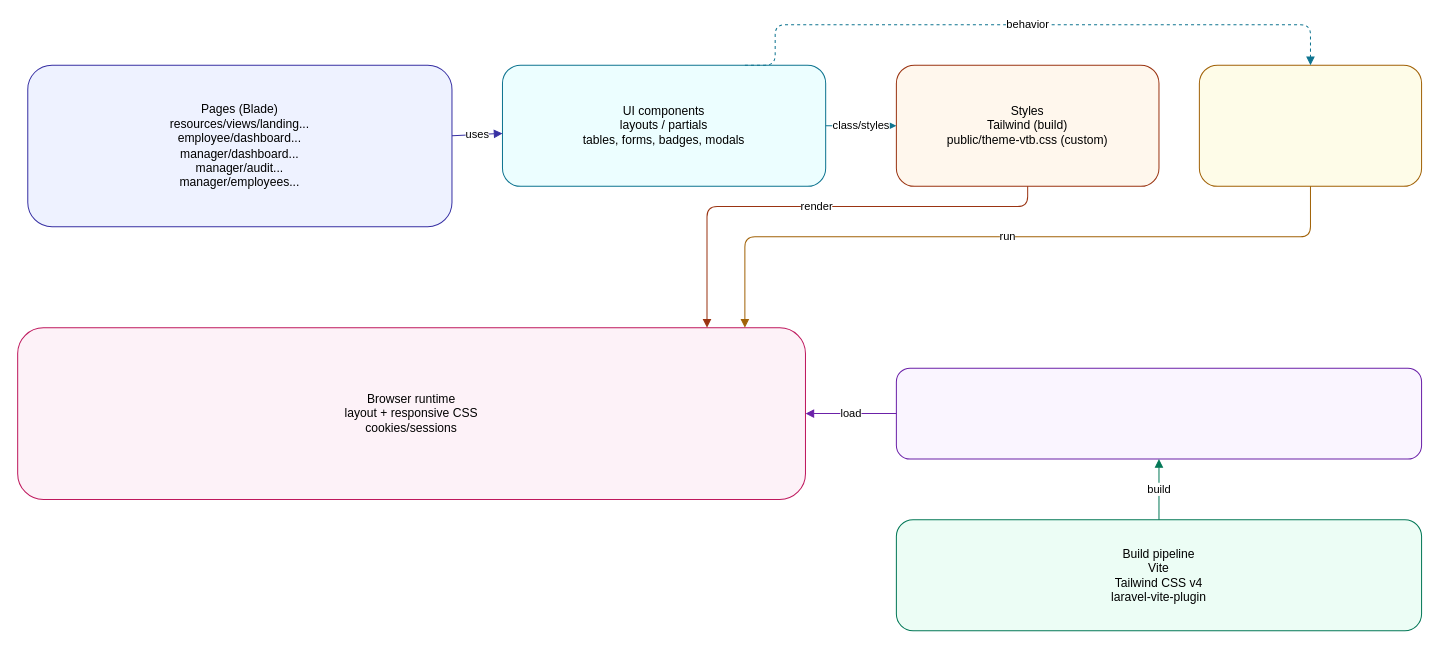
Image size: 1439x648. Some labels were removed from this diagram. Here are the shapes that lost their labels. From the top down, the centre of each, then its label:
At pixel 1310 125: "JS behavior (lightweight) form UX, toggles, mobile fixes CSRF token in forms".
At pixel 1158 413: "Output assets public/build/manifest.json hashed CSS/JS (prod)".
